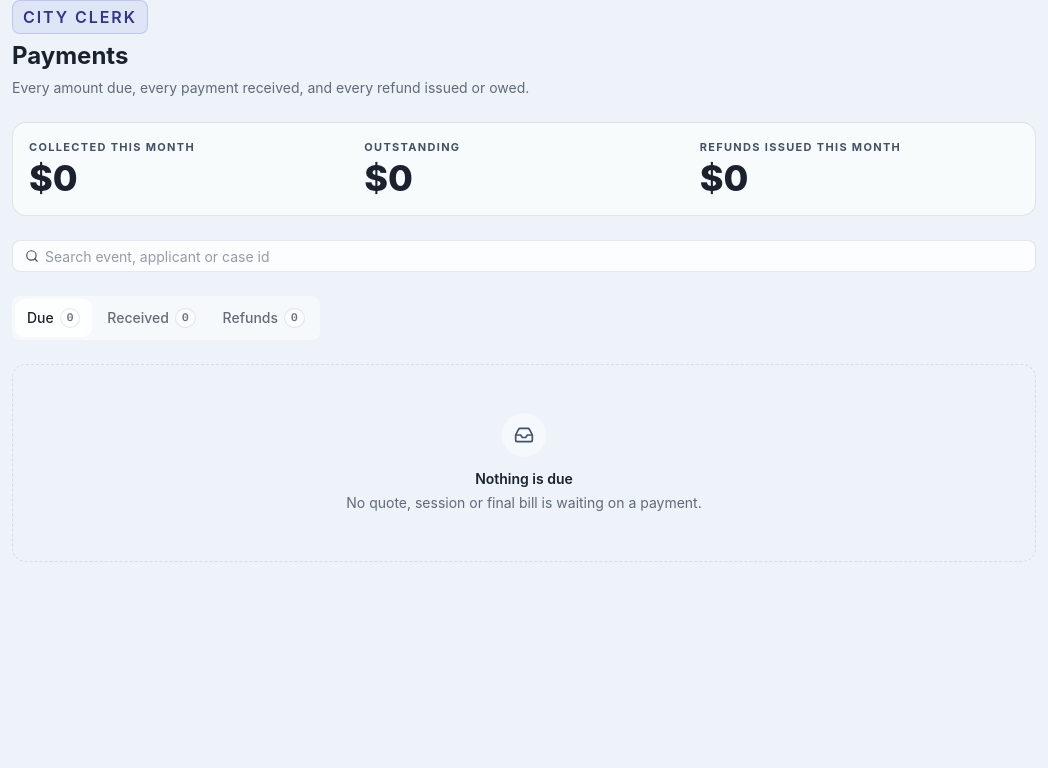
Test: Payments: Refunds › is empty for a case with no payments or endings
Click the tab "Refunds 0". click: click(264, 318)
box: [211,299,317,337]
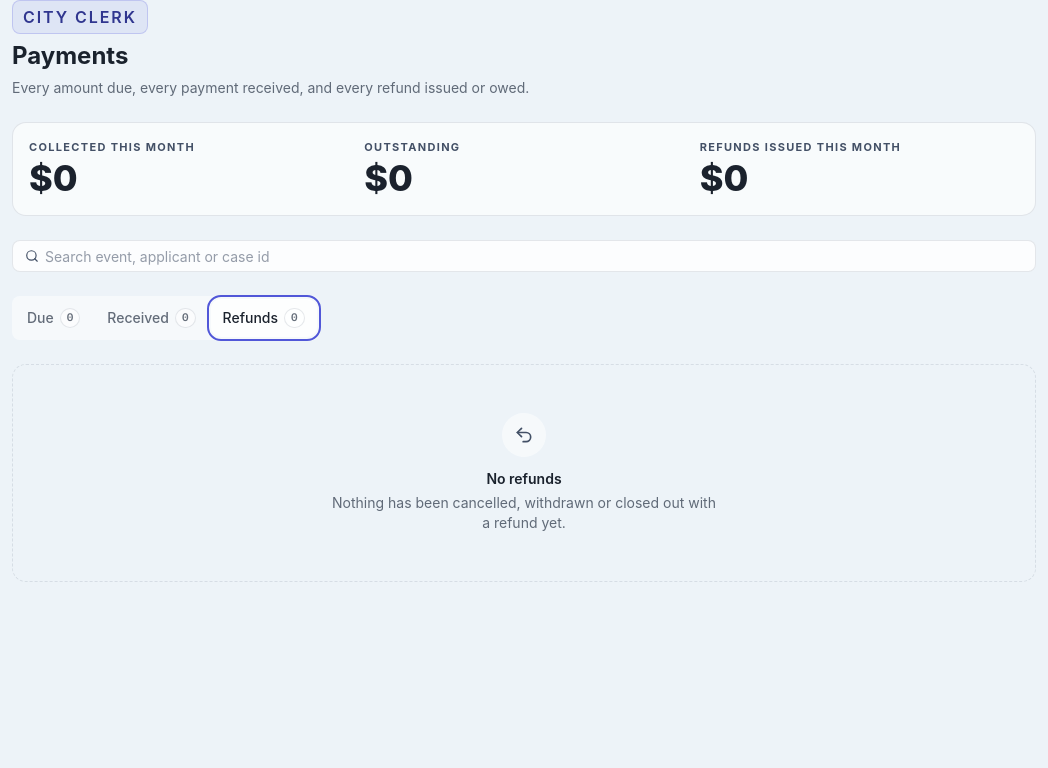
Expected: the text "No refunds" is shown, [486,470,562,487]
